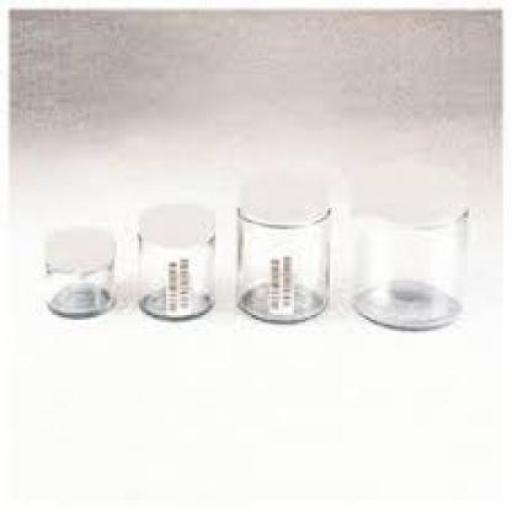glass: (350, 209, 465, 329), (234, 208, 330, 318), (137, 232, 214, 318), (43, 260, 112, 315)
plastic: (346, 164, 465, 227), (236, 178, 328, 226), (45, 224, 113, 266), (139, 202, 212, 241)
